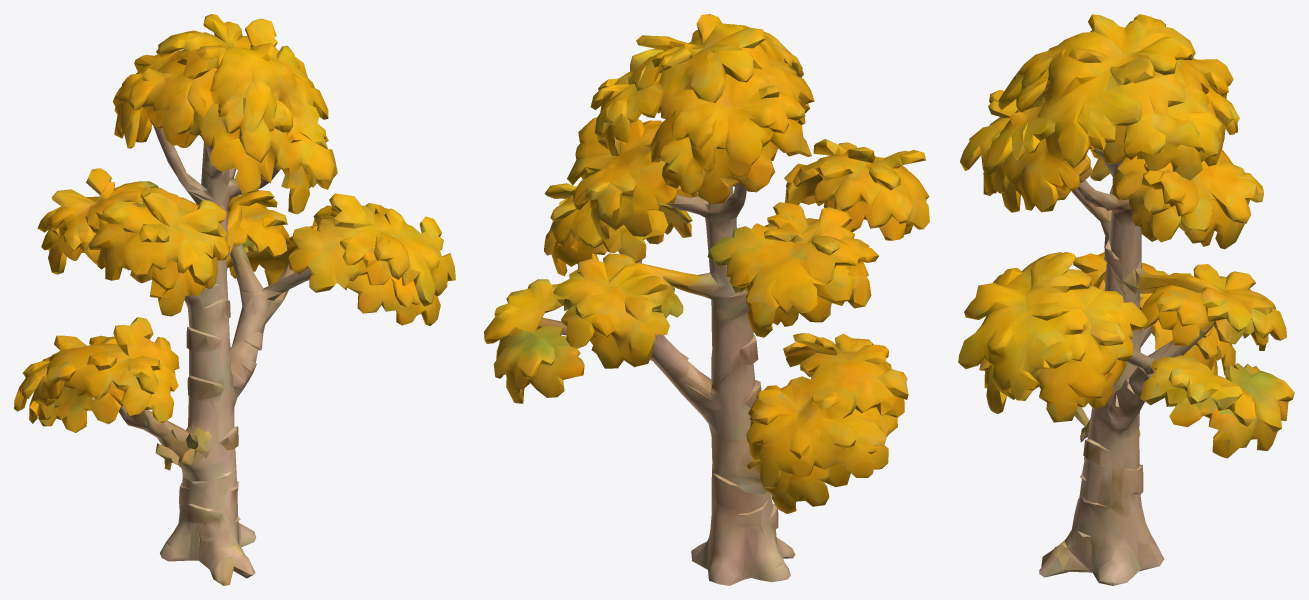
File: abedul_amarillo.glb
The picture shows the model from 3 angles, left to right: view 1: azimuth 30°, elevation 25°; view 2: azimuth 150°, elevation 25°; view 3: azimuth 270°, elevation 25°; orthographic projection. The views are drawn at different scales.
Visible parts, largest first — view 1: abedul_amarillo_malla; view 2: abedul_amarillo_malla; view 3: abedul_amarillo_malla.
Boxes of the visible parts, x1,y1,x2,y2 form: abedul_amarillo_malla: (14,14,455,585); abedul_amarillo_malla: (484,14,929,585); abedul_amarillo_malla: (958,14,1294,585).
Bounding box in the file's own units: 0.2657 × 0.3557 × 0.1955.
1 material, 1 textured.
